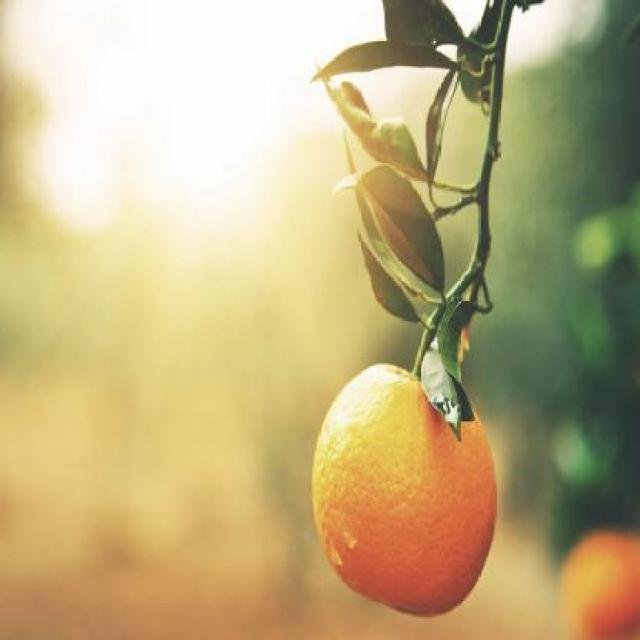Jeruk Sudah Matang: (312, 362, 503, 616)
